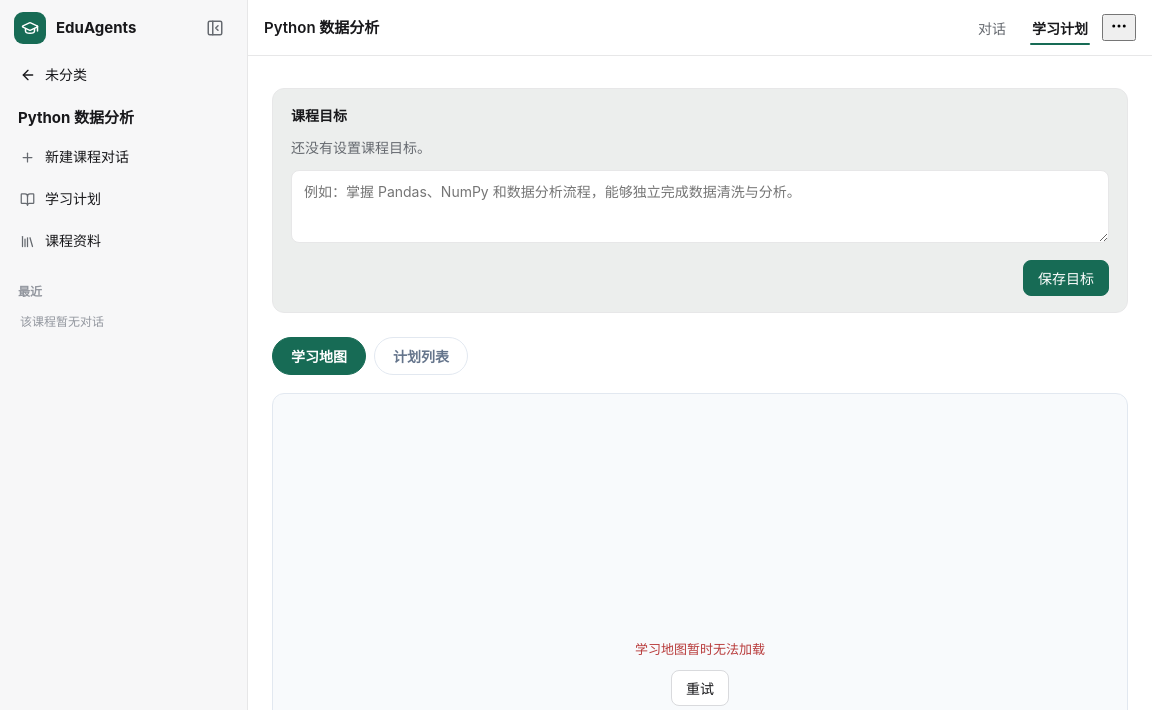
Test: LearningApp host embedding › routes to plan under /host/learning/courses/:id/plan (404 → empty plan state)
This screenshot has width=1152, height=710.
// 计划内容位于「计划列表」标签页
Click the tab "计划列表". click: (421, 356)
box: x1=374 y1=337 x2=468 y2=375
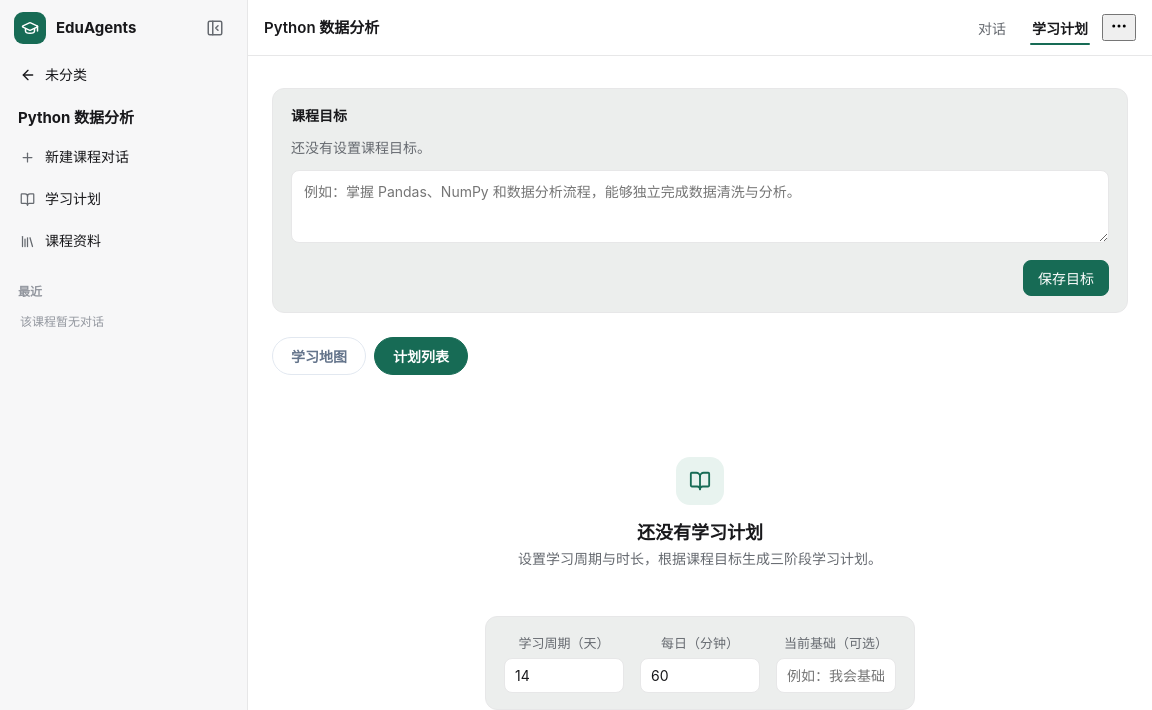
Now the heading "还没有学习计划" is shown, box x1=637 y1=519 x2=763 y2=548
